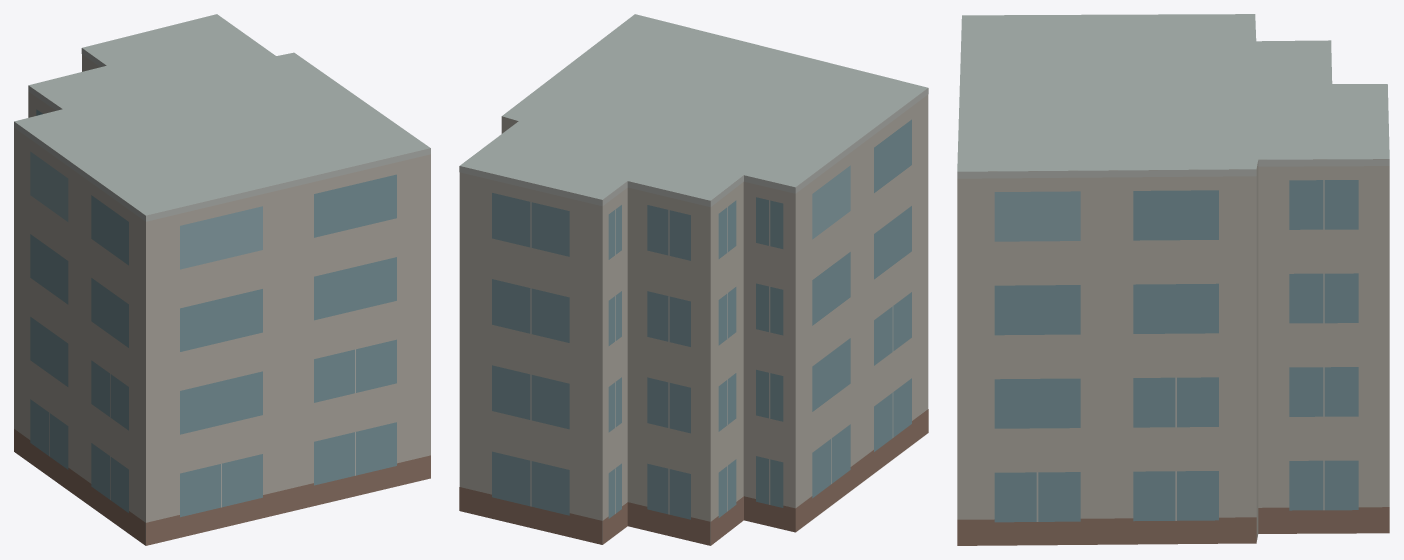
The model's file is survey-upis-32923706.glb.
The picture shows the model from 3 angles, left to right: view 1: azimuth 30°, elevation 25°; view 2: azimuth 150°, elevation 25°; view 3: azimuth 270°, elevation 25°; orthographic projection. The views are drawn at different scales.
Visible parts, largest first — view 1: survey-upis-32923706.tmp; view 2: survey-upis-32923706.tmp; view 3: survey-upis-32923706.tmp.
Part boxes in pixels (x1,y1,x2,y2): survey-upis-32923706.tmp: [14, 14, 430, 545]; survey-upis-32923706.tmp: [459, 14, 928, 545]; survey-upis-32923706.tmp: [957, 14, 1389, 545].
Size of the model in its own units: 11.82 by 13.07 by 13.7.
